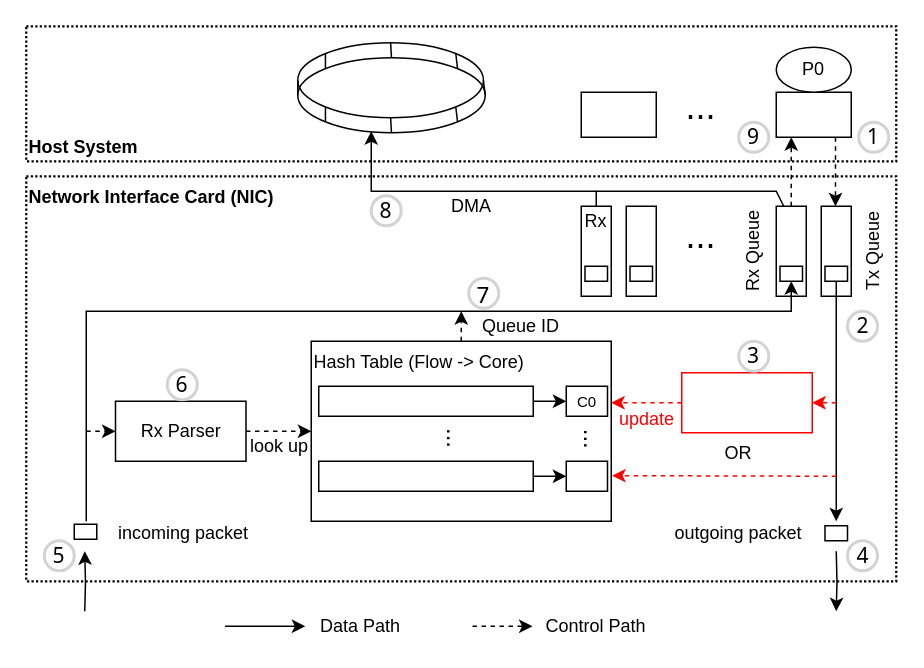
The diagram is 924 pixels wide and 668 high, and some of its shapes have lost their labels. Here are the shapes that lost their labels. From the top down, the centre of each, then its label:
the point at 389,79: Ring buffer
the point at 618,114: Core n
the point at 813,114: Core 0
the point at 640,250: Tx
the point at 425,400: Fi: Hash of packet fields
the point at 746,402: Tx Parser
the point at 425,475: Fj: Hash of packet fields
the point at 586,475: Ck
